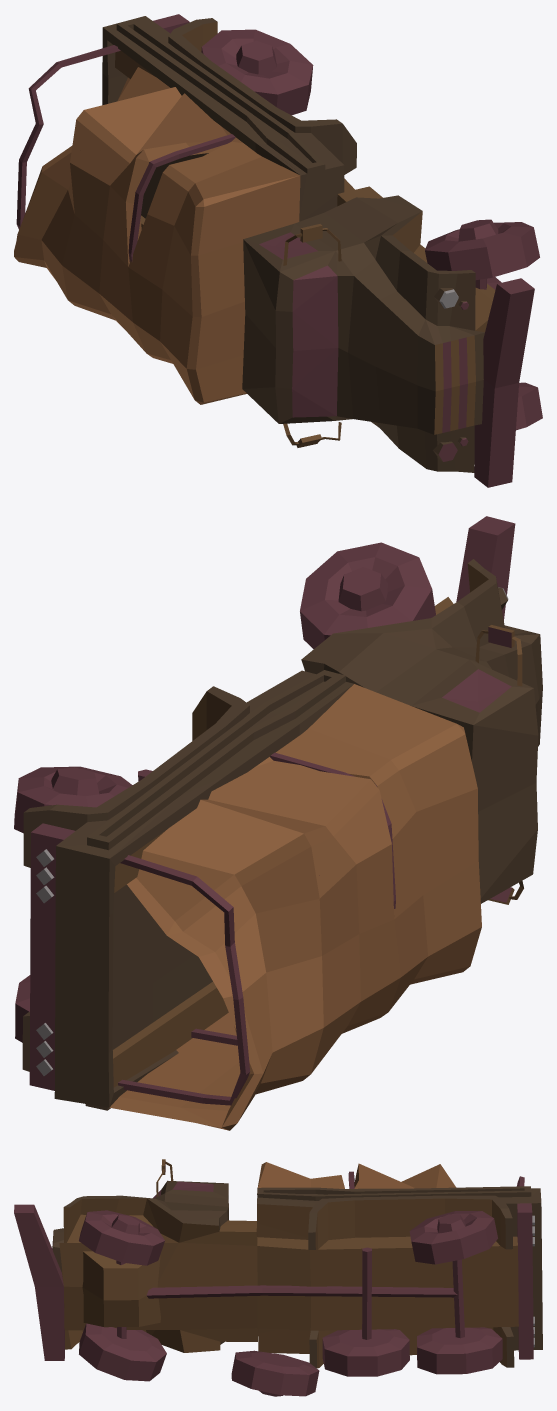
Rendered from military-truck-apocalypse.fbx.
The picture shows the model from 3 angles, top to bottom: view 1: azimuth 30°, elevation 25°; view 2: azimuth 150°, elevation 25°; view 3: azimuth 270°, elevation 25°; orthographic projection. The views are drawn at different scales.
Visible parts, largest first — view 1: military-truck-apocalypse-base, military-truck-apocalypse-cover, military-truck-apocalypse-wheel_LR2, military-truck-apocalypse-wheel_FL, military-truck-apocalypse-wheel_FR; view 2: military-truck-apocalypse-base, military-truck-apocalypse-cover, military-truck-apocalypse-wheel_FL, military-truck-apocalypse-wheel_LR2; view 3: military-truck-apocalypse-base, military-truck-apocalypse-wheel_LR2, military-truck-apocalypse-wheel_BR1, military-truck-apocalypse-wheel_FR, military-truck-apocalypse-wheel_BR2, military-truck-apocalypse-wheel_FL, military-truck-apocalypse-wheel_LR1, military-truck-apocalypse-cover.
Boxes of the visible parts, <box> form: military-truck-apocalypse-base: <box>16,14,534,487</box>; military-truck-apocalypse-cover: <box>14,67,300,404</box>; military-truck-apocalypse-wheel_LR2: <box>201,29,313,115</box>; military-truck-apocalypse-wheel_FL: <box>425,219,539,279</box>; military-truck-apocalypse-wheel_FR: <box>516,382,542,430</box>; military-truck-apocalypse-base: <box>22,516,542,1110</box>; military-truck-apocalypse-cover: <box>109,684,481,1130</box>; military-truck-apocalypse-wheel_FL: <box>300,542,435,649</box>; military-truck-apocalypse-wheel_LR2: <box>14,766,132,833</box>; military-truck-apocalypse-base: <box>14,1159,542,1368</box>; military-truck-apocalypse-wheel_LR2: <box>409,1211,497,1264</box>; military-truck-apocalypse-wheel_BR1: <box>322,1329,409,1376</box>; military-truck-apocalypse-wheel_FR: <box>79,1323,166,1381</box>; military-truck-apocalypse-wheel_BR2: <box>417,1327,502,1374</box>; military-truck-apocalypse-wheel_FL: <box>79,1210,164,1265</box>; military-truck-apocalypse-wheel_LR1: <box>231,1350,319,1396</box>; military-truck-apocalypse-cover: <box>257,1162,456,1188</box>.
Bounding box in the file's own units: 4.1 × 2.78 × 8.23.
